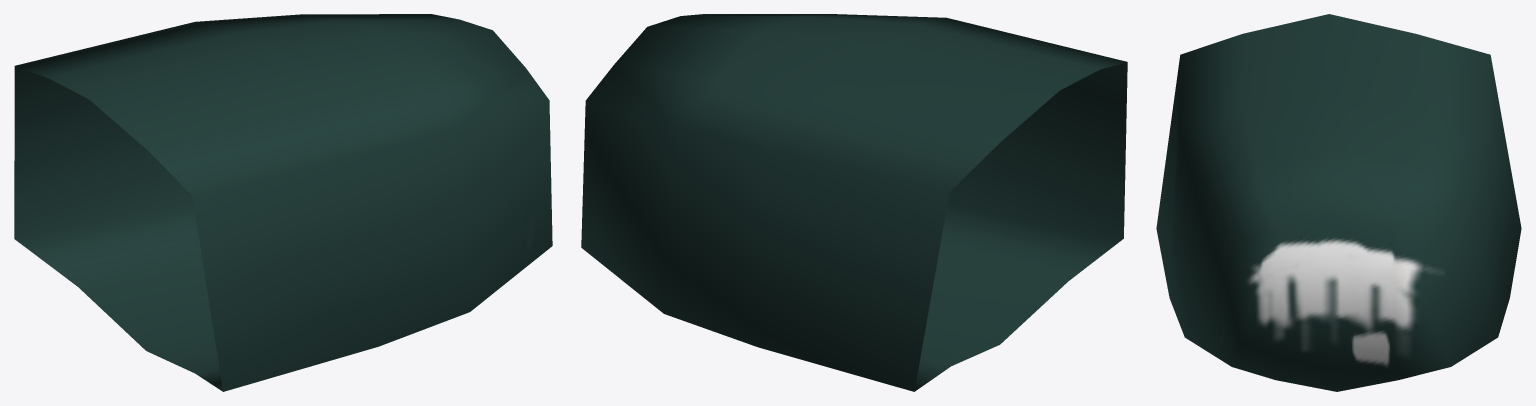
The model's file is HAND_Titan_R.fbx.
3 views of the same model, side by side, from view 1: azimuth 30°, elevation 25°; view 2: azimuth 150°, elevation 25°; view 3: azimuth 270°, elevation 25° (orthographic). The views are drawn at different scales.
Parts seen in each view (by area): view 1: SM_Titan_Right; view 2: SM_Titan_Right; view 3: SM_Titan_Right.
Part boxes in pixels (x1,y1,x2,y2): SM_Titan_Right: (14, 14, 552, 391); SM_Titan_Right: (581, 14, 1127, 391); SM_Titan_Right: (1156, 14, 1521, 391).
Size of the model in its own units: 351 by 219 by 311.
